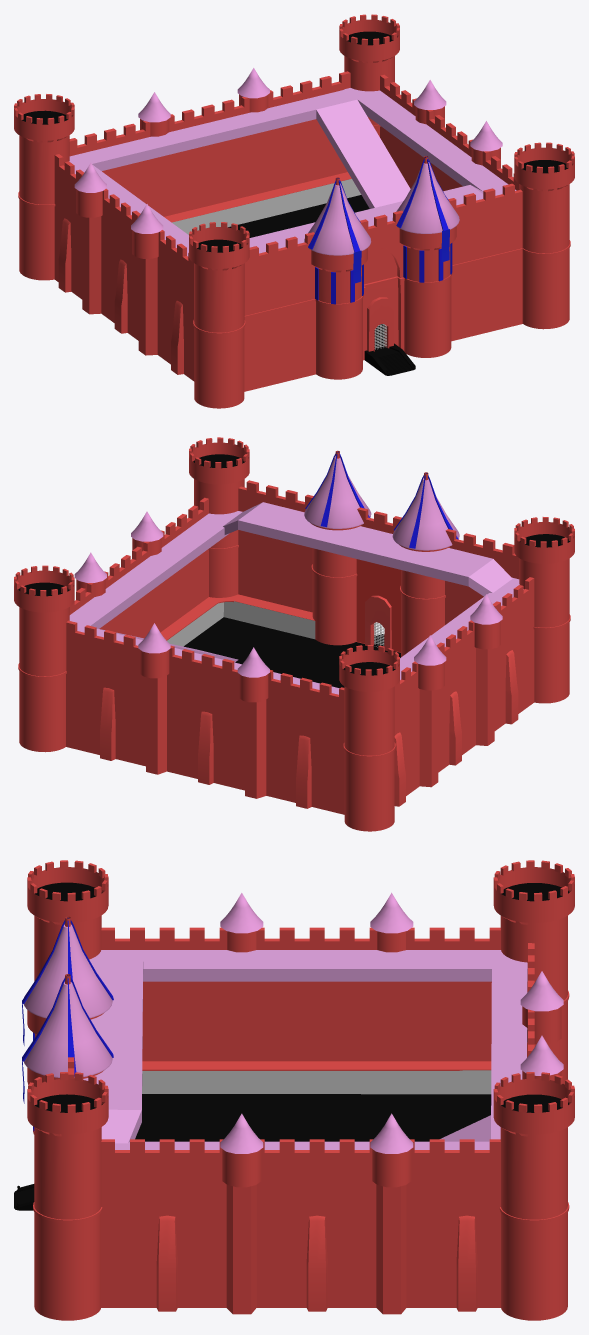
File: DarkDastleYellow.fbx
The picture shows the model from 3 angles, top to bottom: view 1: azimuth 30°, elevation 25°; view 2: azimuth 150°, elevation 25°; view 3: azimuth 270°, elevation 25°; orthographic projection. The views are drawn at different scales.
Visible parts, largest first — view 1: Castle_Catle, Cube.004, Cube.001, Floor, CacheMisereFloor, Cube.003, Cube.002; view 2: Castle_Catle, Cube.003, Floor, Cube.001, CacheMisereFloor, CacheMiserePorte, Cube.002, Cube.004; view 3: Castle_Catle, Floor, Cube.002, CacheMisereFloor, Cube.003, Cube.004, Cube.001.
Part boxes in pixels (x1=…): Castle_Catle: x1=14, y1=14, x2=574, y2=408; Cube.004: x1=75, y1=89, x2=410, y2=208; Cube.001: x1=343, y1=88, x2=516, y2=195; Floor: x1=22, y1=31, x2=568, y2=348; CacheMisereFloor: x1=172, y1=179, x2=361, y2=234; Cube.003: x1=249, y1=185, x2=483, y2=253; Cube.002: x1=69, y1=155, x2=188, y2=256; Castle_Catle: x1=14, y1=437, x2=574, y2=831; Cube.003: x1=223, y1=502, x2=512, y2=596; Floor: x1=18, y1=454, x2=570, y2=688; Cube.001: x1=69, y1=511, x2=242, y2=631; CacheMisereFloor: x1=167, y1=601, x2=315, y2=646; CacheMiserePorte: x1=356, y1=559, x2=400, y2=652; Cube.002: x1=400, y1=577, x2=523, y2=679; Cube.004: x1=82, y1=628, x2=339, y2=694; Castle_Catle: x1=14, y1=860, x2=574, y2=1320; Floor: x1=34, y1=882, x2=569, y2=1141; Cube.002: x1=89, y1=950, x2=527, y2=981; CacheMisereFloor: x1=142, y1=1070, x2=491, y2=1094; Cube.003: x1=83, y1=959, x2=143, y2=1143; Cube.004: x1=440, y1=967, x2=527, y2=1141; Cube.001: x1=115, y1=1141, x2=489, y2=1149.
Bounding box in the file's own units: 5415 × 2648 × 5220.
